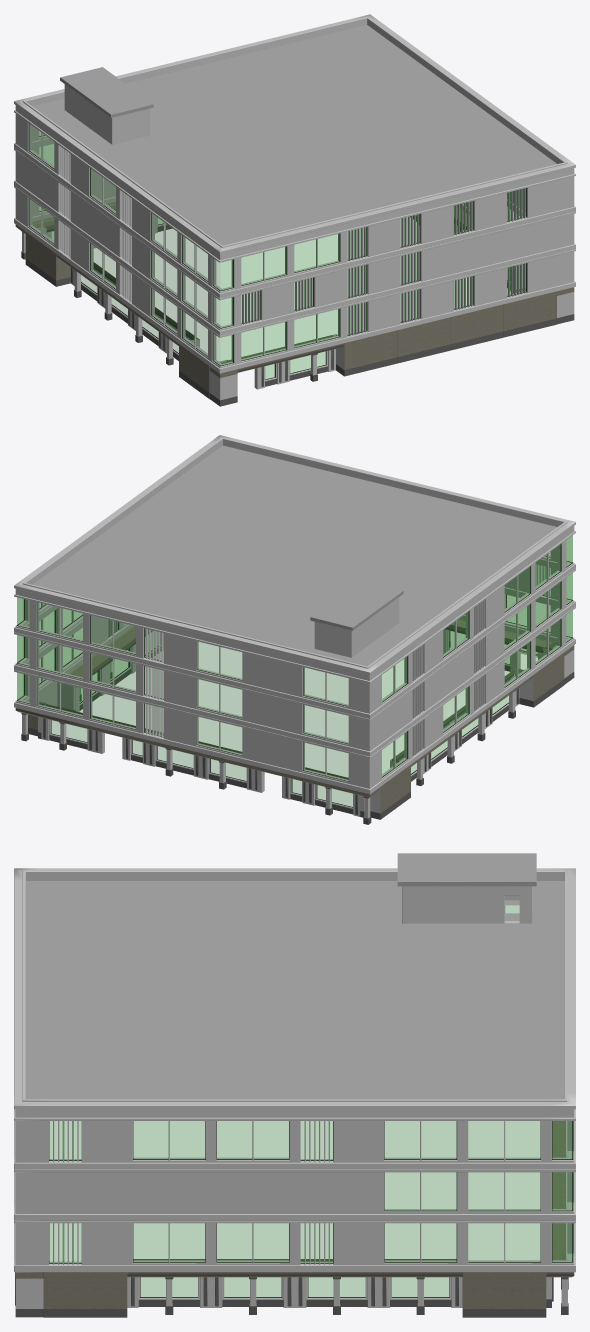
The model's file is SM_Building15.fbx.
3 views of the same model, one above another, from view 1: azimuth 30°, elevation 25°; view 2: azimuth 150°, elevation 25°; view 3: azimuth 270°, elevation 25° (orthographic). The views are drawn at different scales.
Parts seen in each view (by area): view 1: SM_Building15; view 2: SM_Building15; view 3: SM_Building15.
Part boxes in pixels (x1,y1,x2,y2): SM_Building15: (14,14,575,406); SM_Building15: (14,435,575,824); SM_Building15: (14,853,575,1317).
Bounding box in the file's own units: 4023 × 1964 × 4023.
